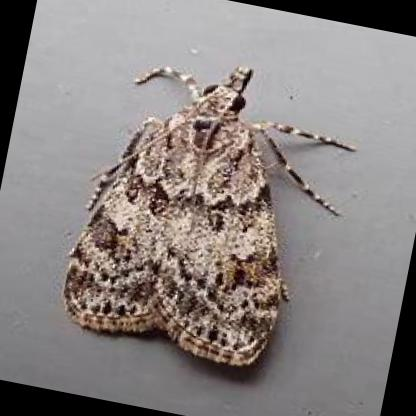Hellula undalis: (63, 56, 367, 373)
